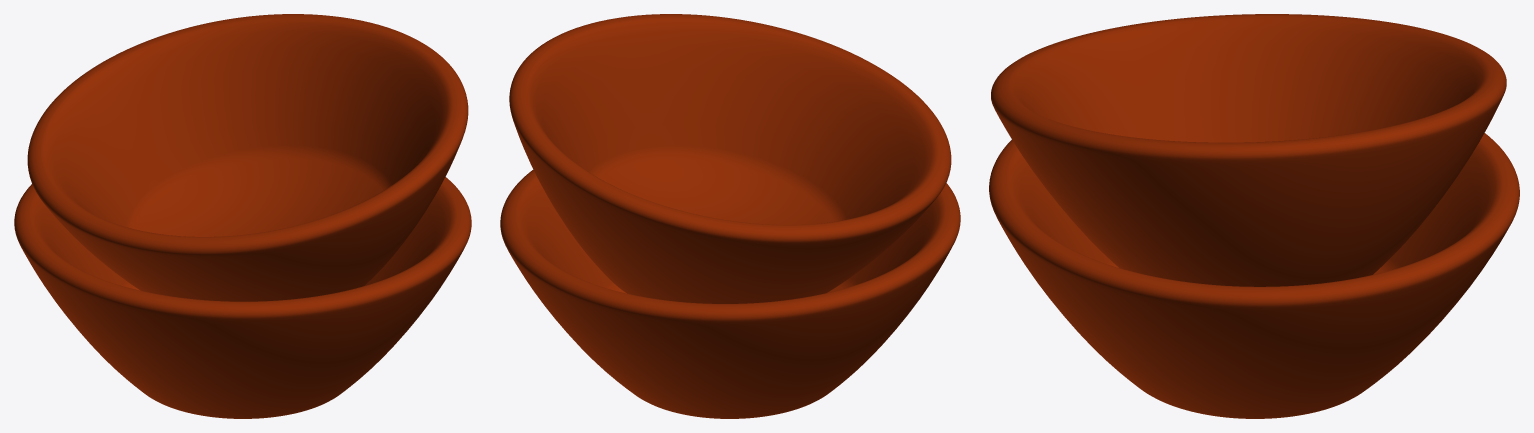
Rendered from tazones.fbx.
3 renders of one model, left to right at view 1: azimuth 30°, elevation 25°; view 2: azimuth 150°, elevation 25°; view 3: azimuth 270°, elevation 25°, orthographic. The views are drawn at different scales.
Parts seen in each view (by area): view 1: tazones; view 2: tazones; view 3: tazones.
Boxes of the visible parts, x1,y1,x2,y2 form: tazones: (14,14,471,418); tazones: (500,14,960,418); tazones: (989,14,1519,418).
Size of the model in its own units: 37.52 by 25.53 by 37.52.
